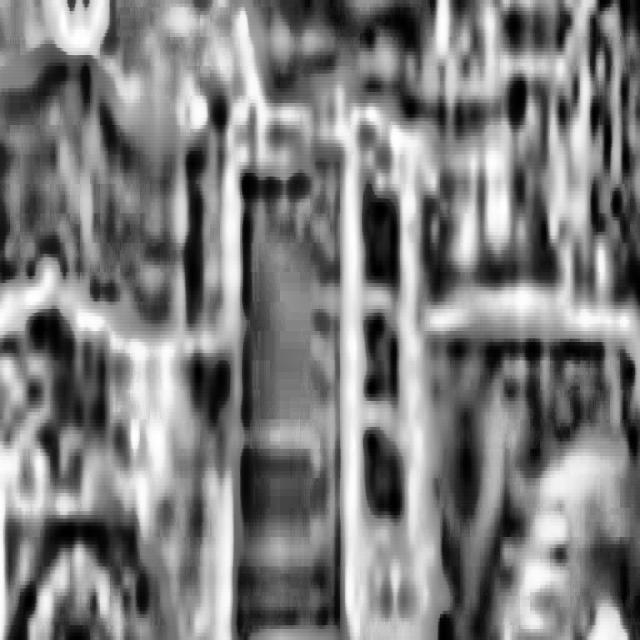dump_truck: (152, 0, 640, 640), (0, 235, 238, 640)
